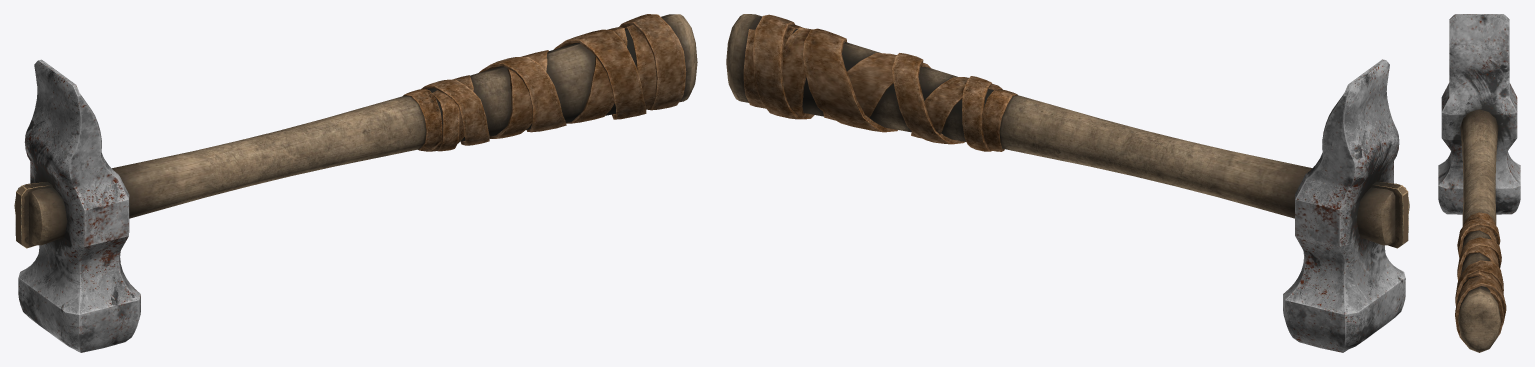
File: brokkr_hammer.glb
3 views of the same model, side by side, from view 1: azimuth 30°, elevation 25°; view 2: azimuth 150°, elevation 25°; view 3: azimuth 270°, elevation 25° (orthographic). The views are drawn at different scales.
Visible parts, largest first — view 1: Hammer.002; view 2: Hammer.002; view 3: Hammer.002.
Part boxes in pixels (left/top/right/bottom): Hammer.002: left=14, top=14, right=697, bottom=352; Hammer.002: left=726, top=14, right=1409, bottom=352; Hammer.002: left=1438, top=14, right=1520, bottom=352.
Bounding box in the file's own units: 63.34 × 24.13 × 9.66.
Materials: 1 (1 with a texture image).
